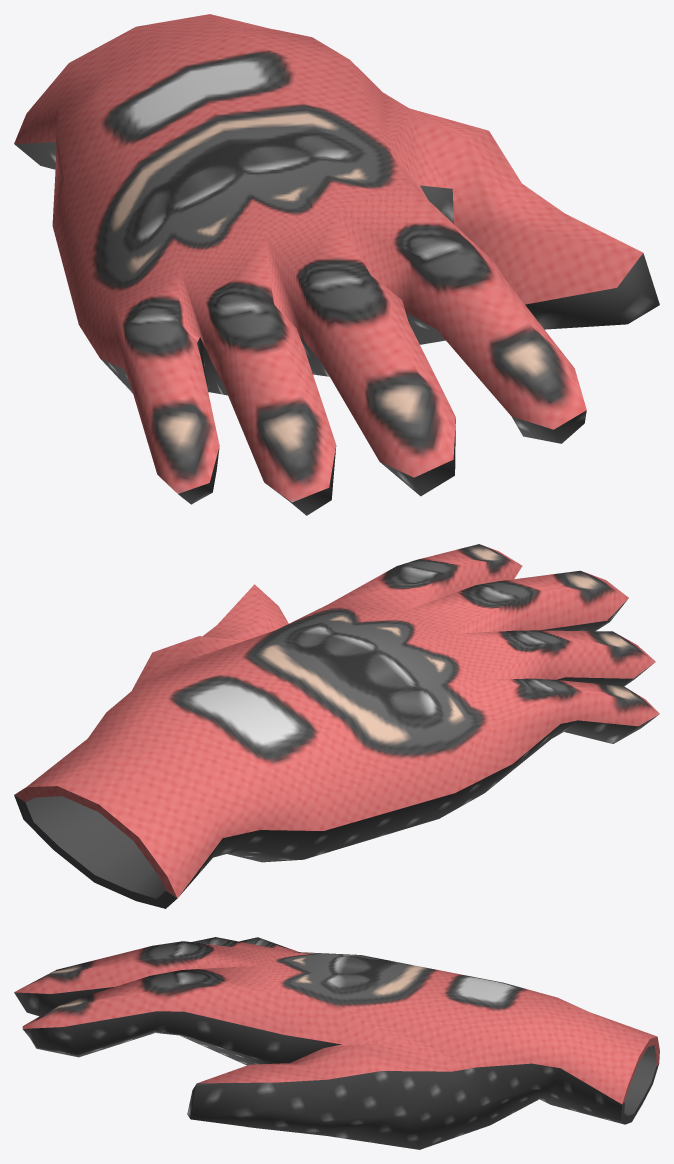
The model's file is sweethome3d-scopia-glove-266.glb.
3 views of the same model, one above another, from view 1: azimuth 30°, elevation 25°; view 2: azimuth 150°, elevation 25°; view 3: azimuth 270°, elevation 25° (orthographic). The views are drawn at different scales.
Parts seen in each view (by area): view 1: gant; view 2: gant; view 3: gant.
Boxes of the visible parts, x1,y1,x2,y2 form: gant: (14,14,659,515); gant: (14,544,659,908); gant: (14,937,659,1149).
Bounding box in the file's own units: 15.46 × 6.04 × 26.36.
Materials: 2 (2 with a texture image).
